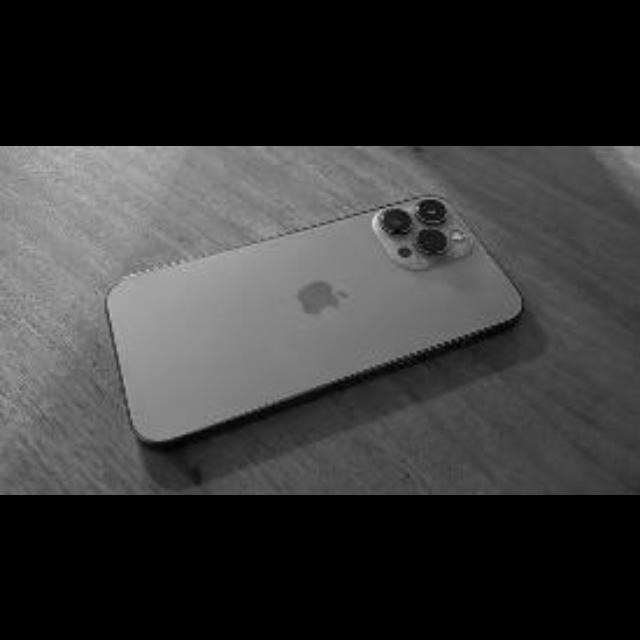fake: (100, 190, 536, 464)
